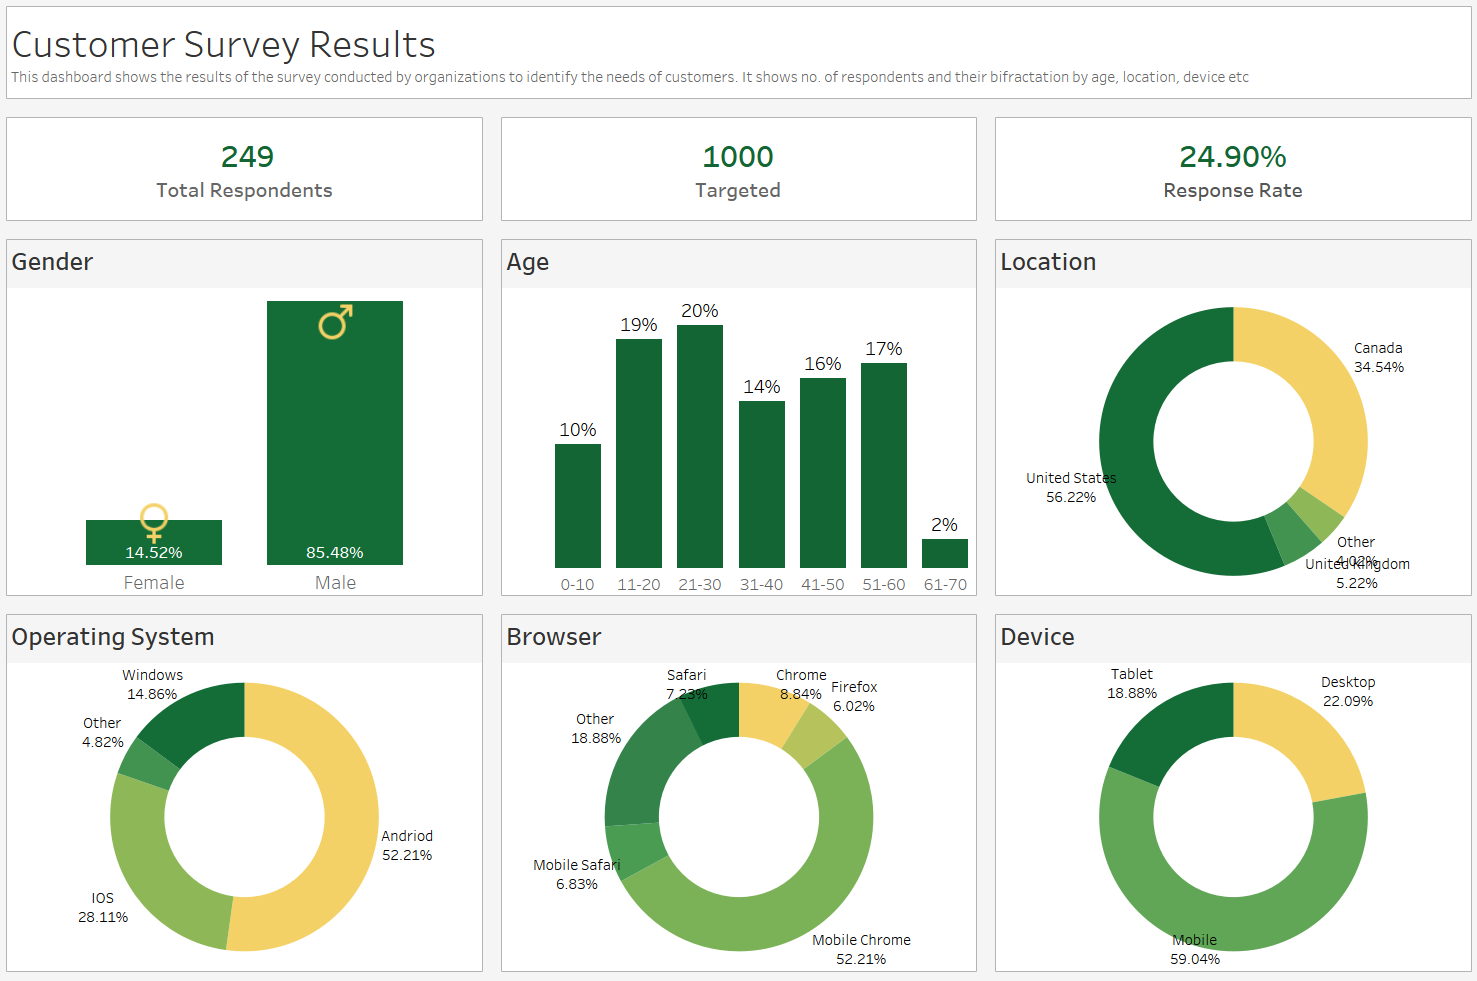

What the dashboard file says about the page in this screenshot:
{"tool":"tableau","page":{"name":"final dashboard","canvas":[1500,1000],"ordinal":0},"visuals":[{"type":"worksheet","box":[0,0,1500,1000]},{"type":"worksheet","param":"horz","box":[8,8,1484,984]},{"type":"worksheet","param":"vert","box":[8,8,1484,984]},{"type":"worksheet","box":[8,8,1484,111]},{"type":"worksheet","box":[8,119,1484,122]},{"type":"worksheet","param":"horz","box":[8,119,495,122]},{"type":"worksheet","title":"respondants","mark":"Automatic","box":[8,119,495,122]},{"type":"worksheet","box":[503,119,989,122]},{"type":"worksheet","param":"horz","box":[503,119,494,122]},{"type":"worksheet","param":"horz","box":[503,119,494,122]},{"type":"worksheet","title":"Targeted","mark":"Automatic","box":[503,119,494,122]},{"type":"worksheet","param":"horz","box":[997,119,495,122]},{"type":"worksheet","title":"response rate","mark":"Automatic","box":[997,119,495,122]},{"type":"worksheet","param":"horz","box":[8,241,1484,751]},{"type":"worksheet","box":[8,241,1484,751]},{"type":"worksheet","box":[8,241,1484,375.5]},{"type":"worksheet","box":[8,241,989,375.5]},{"type":"worksheet","param":"horz","box":[8,241,494.9,375.5]},{"type":"worksheet","title":"gender bar","mark":"Automatic","cols":["Gender"],"box":[8,241,494.9,375.5]},{"type":"worksheet","param":"horz","box":[502.9,241,494,375.5]},{"type":"worksheet","title":"age bar","mark":"Automatic","cols":["Age (bin)"],"box":[502.9,241,494,375.5]},{"type":"worksheet","param":"horz","box":[997,241,495,375.5]},{"type":"worksheet","title":"loc","mark":"Pie","rows":["Calculation_1735574735911776258","Calculation_1735574735911776258"],"box":[997,241,495,375.5]},{"type":"worksheet","box":[8,616.5,1484,375.5]},{"type":"worksheet","box":[8,616.5,989,375.5]},{"type":"worksheet","param":"horz","box":[8,616.5,495,375.5]},{"type":"worksheet","title":"OS","mark":"Pie","rows":["Calculation_1735574735911776258","Calculation_1735574735911776258"],"box":[8,616.5,495,375.5]},{"type":"worksheet","param":"horz","box":[503,616.5,494,375.5]},{"type":"worksheet","title":"browser","mark":"Pie","rows":["Calculation_1735574735911776258","Calculation_1735574735911776258"],"box":[503,616.5,494,375.5]},{"type":"worksheet","param":"horz","box":[997,616.5,495,375.5]},{"type":"worksheet","title":"Device","mark":"Pie","rows":["Calculation_1735574735911776258","Calculation_1735574735911776258"],"box":[997,616.5,495,375.5]}]}

Visuals, with their boxes in screenshot pixels (x1, y1, x2, y2), scaled from the page's 1500x1000 canvas onto the 1477x981 screenshot:
worksheet: [x1=0, y1=0, x2=1476, y2=980]
worksheet: [x1=8, y1=8, x2=1469, y2=973]
worksheet: [x1=8, y1=8, x2=1469, y2=973]
worksheet: [x1=8, y1=8, x2=1469, y2=117]
worksheet: [x1=8, y1=117, x2=1469, y2=236]
worksheet: [x1=8, y1=117, x2=495, y2=236]
"respondants" worksheet: [x1=8, y1=117, x2=495, y2=236]
worksheet: [x1=495, y1=117, x2=1469, y2=236]
worksheet: [x1=495, y1=117, x2=982, y2=236]
worksheet: [x1=495, y1=117, x2=982, y2=236]
"Targeted" worksheet: [x1=495, y1=117, x2=982, y2=236]
worksheet: [x1=982, y1=117, x2=1469, y2=236]
"response rate" worksheet: [x1=982, y1=117, x2=1469, y2=236]
worksheet: [x1=8, y1=236, x2=1469, y2=973]
worksheet: [x1=8, y1=236, x2=1469, y2=973]
worksheet: [x1=8, y1=236, x2=1469, y2=605]
worksheet: [x1=8, y1=236, x2=982, y2=605]
worksheet: [x1=8, y1=236, x2=495, y2=605]
"gender bar" worksheet: [x1=8, y1=236, x2=495, y2=605]
worksheet: [x1=495, y1=236, x2=982, y2=605]
"age bar" worksheet: [x1=495, y1=236, x2=982, y2=605]
worksheet: [x1=982, y1=236, x2=1469, y2=605]
"loc" worksheet (Pie marks): [x1=982, y1=236, x2=1469, y2=605]
worksheet: [x1=8, y1=605, x2=1469, y2=973]
worksheet: [x1=8, y1=605, x2=982, y2=973]
worksheet: [x1=8, y1=605, x2=495, y2=973]
"OS" worksheet (Pie marks): [x1=8, y1=605, x2=495, y2=973]
worksheet: [x1=495, y1=605, x2=982, y2=973]
"browser" worksheet (Pie marks): [x1=495, y1=605, x2=982, y2=973]
worksheet: [x1=982, y1=605, x2=1469, y2=973]
"Device" worksheet (Pie marks): [x1=982, y1=605, x2=1469, y2=973]
